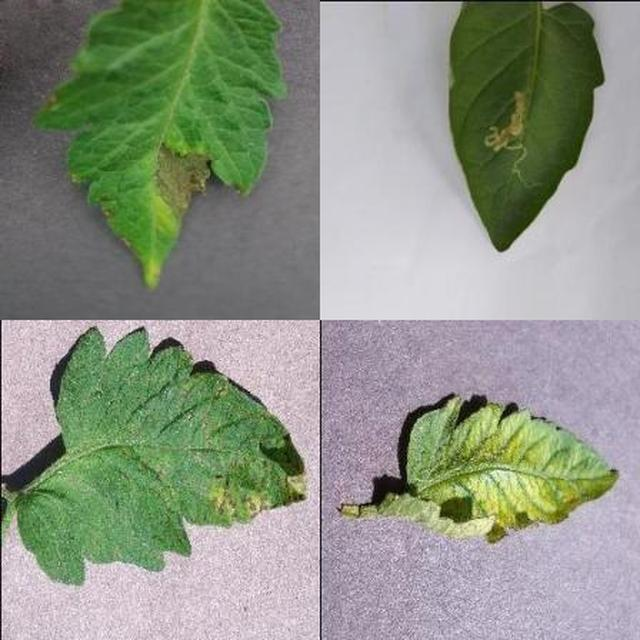Late Blight Leaf: (228, 180, 640, 640)
